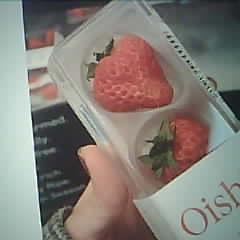straw-ripe: (92, 35, 172, 111)
